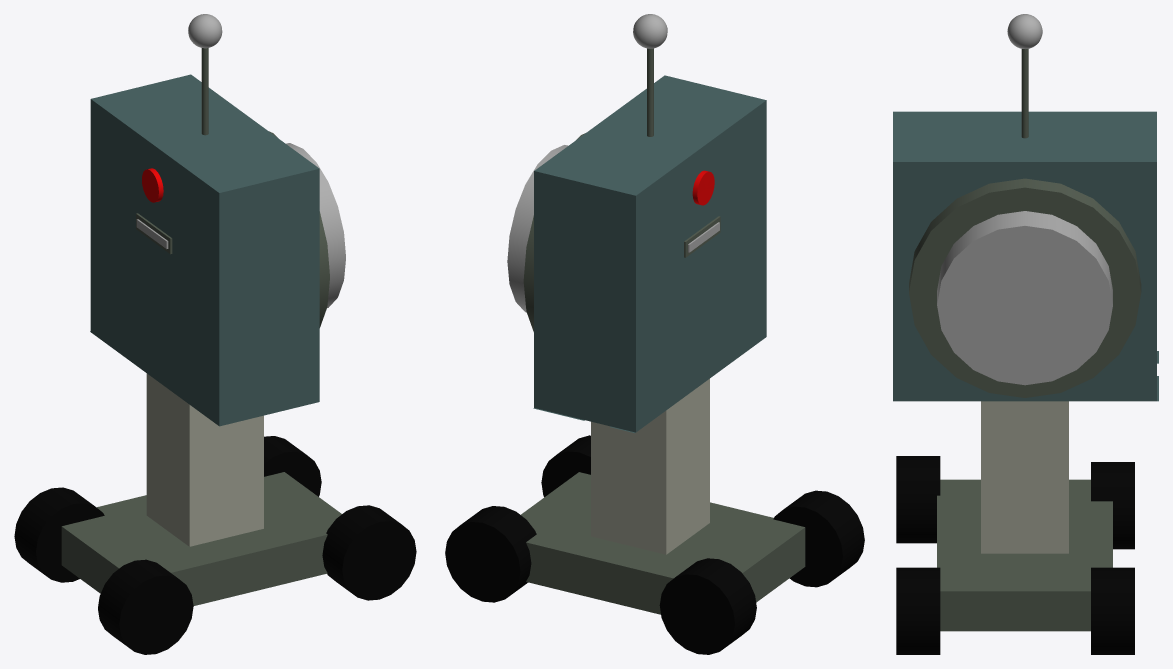
Rendered from robotPrelimv5.fbx.
The picture shows the model from 3 angles, left to right: view 1: azimuth 30°, elevation 25°; view 2: azimuth 150°, elevation 25°; view 3: azimuth 270°, elevation 25°; orthographic projection. The views are drawn at different scales.
Parts seen in each view (by area): view 1: RoboBod, RoboBase, RoboStem, RoboWheel1, RoboWheel2, RoboWheel4, indicator, RoboWheel3, AttenaBall, CannonBase, AttenaRod, PowerButton; view 2: RoboBod, RoboBase, RoboStem, RoboWheel4, RoboWheel3, RoboWheel1, indicator, RoboWheel2, AttenaBall, CannonBase, PowerButton, AttenaRod; view 3: RoboBod, indicator, RoboBase, CannonBase, RoboStem, RoboWheel2, RoboWheel3, RoboWheel1, RoboWheel4, AttenaBall, AttenaRod.
Part boxes in pixels (<box>): RoboBod: <box>90,74,319,426</box>; RoboBase: <box>61,472,341,605</box>; RoboStem: <box>146,373,263,546</box>; RoboWheel1: <box>98,559,193,654</box>; RoboWheel2: <box>322,505,416,600</box>; RoboWheel4: <box>14,487,104,582</box>; indicator: <box>286,143,345,307</box>; RoboWheel3: <box>264,436,321,496</box>; AttenaBall: <box>188,14,222,48</box>; CannonBase: <box>269,131,329,327</box>; AttenaRod: <box>201,48,208,135</box>; PowerButton: <box>142,168,163,202</box>; RoboBod: <box>533,75,766,433</box>; RoboBase: <box>521,472,805,614</box>; RoboStem: <box>591,378,709,554</box>; RoboWheel4: <box>659,558,756,654</box>; RoboWheel3: <box>445,506,536,602</box>; RoboWheel1: <box>773,490,864,587</box>; indicator: <box>507,145,568,312</box>; RoboWheel2: <box>541,435,590,497</box>; AttenaBall: <box>633,14,667,48</box>; CannonBase: <box>523,133,585,331</box>; PowerButton: <box>692,170,714,205</box>; AttenaRod: <box>647,48,653,136</box>; RoboBod: <box>893,111,1158,401</box>; indicator: <box>937,211,1112,385</box>; RoboBase: <box>937,479,1112,631</box>; CannonBase: <box>909,178,1141,397</box>; RoboStem: <box>981,401,1068,553</box>; RoboWheel2: <box>896,567,940,654</box>; RoboWheel3: <box>1091,567,1134,654</box>; RoboWheel1: <box>896,456,940,543</box>; RoboWheel4: <box>1091,462,1134,549</box>; AttenaBall: <box>1007,14,1042,48</box>; AttenaRod: <box>1021,49,1028,138</box>.
Bounding box in the file's own units: 1 × 1.82 × 0.7552.
